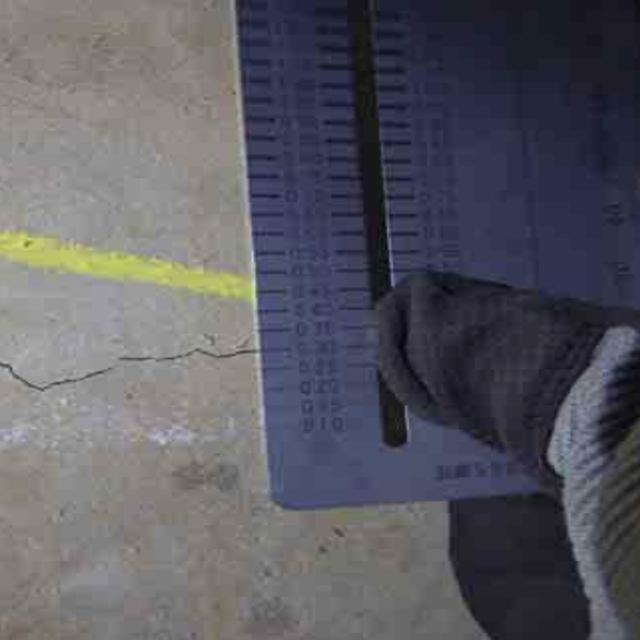crack: (0, 334, 267, 413)
